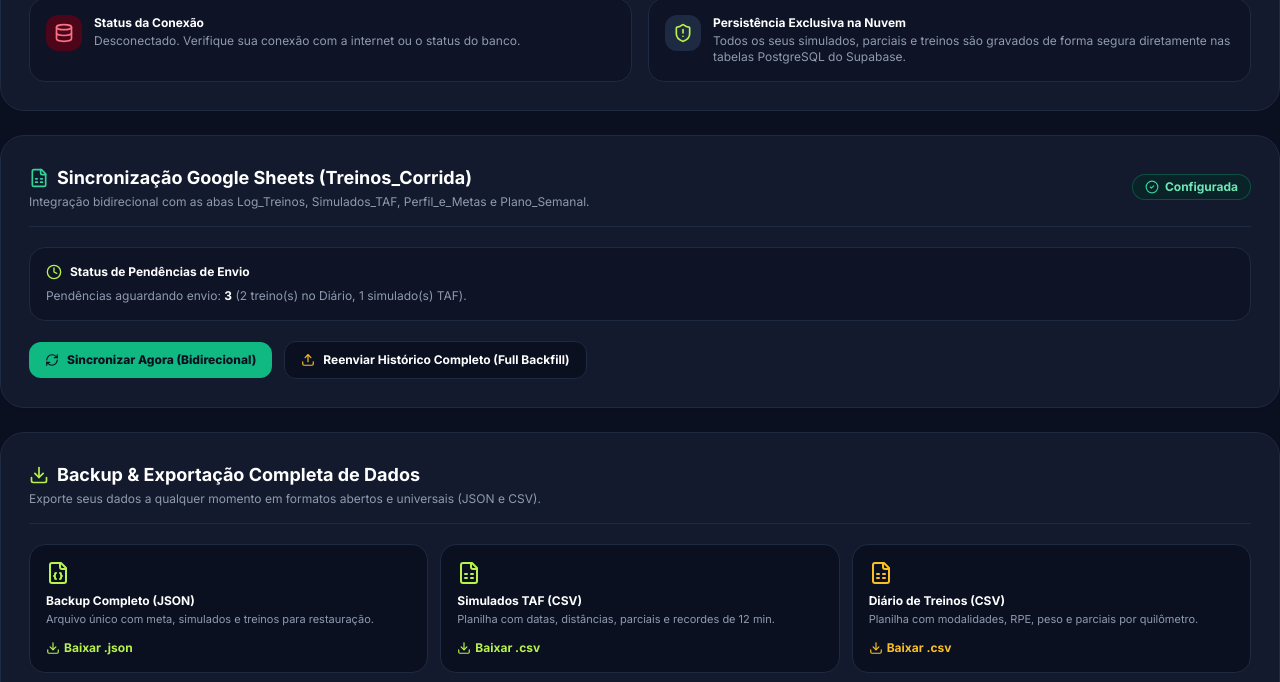
it: Fase 6 — Frontend & UX: Sincronização Google Sheets › 4. Painel Configurações Google Sheets em GoalAndBackupSettings › exibe status e pendências, executa sync bidirecional e full backfill com confirmação
Later steps or results of the test are not shown.
(page scrolled)
Expected: the element with test id "sheets-config-status" reads "Configurada", top-left (1165, 179), bottom-right (1238, 194)
Expected: the element with test id "sheets-pending-summary" shows "Pendências aguardando envio: 3 (2 treino(s) no Diário, 1 simulado(s) TAF)", top-left (46, 288), bottom-right (467, 303)
Click the button with test id "settings-sync-sheets-btn": (151, 360) top-left (29, 342), bottom-right (272, 378)
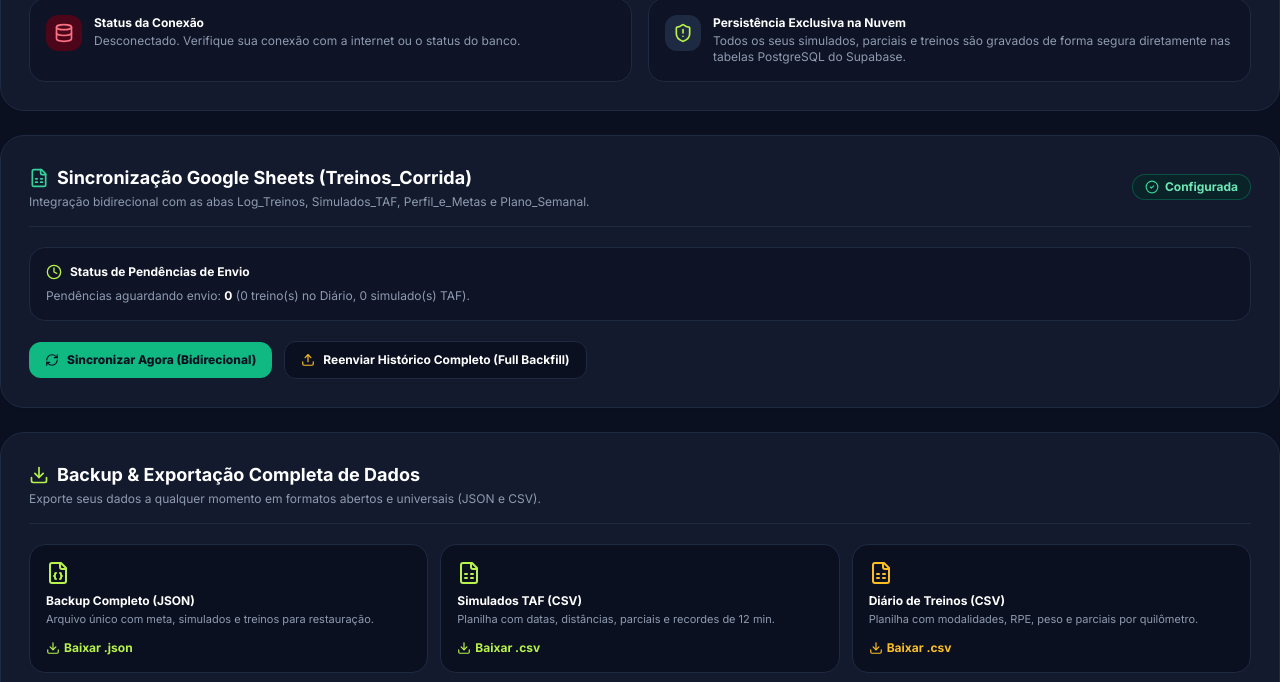
# Fluxo de Full Backfill exige confirmação
Click the button with test id "settings-backfill-sheets-btn": (436, 360) top-left (284, 341), bottom-right (587, 379)
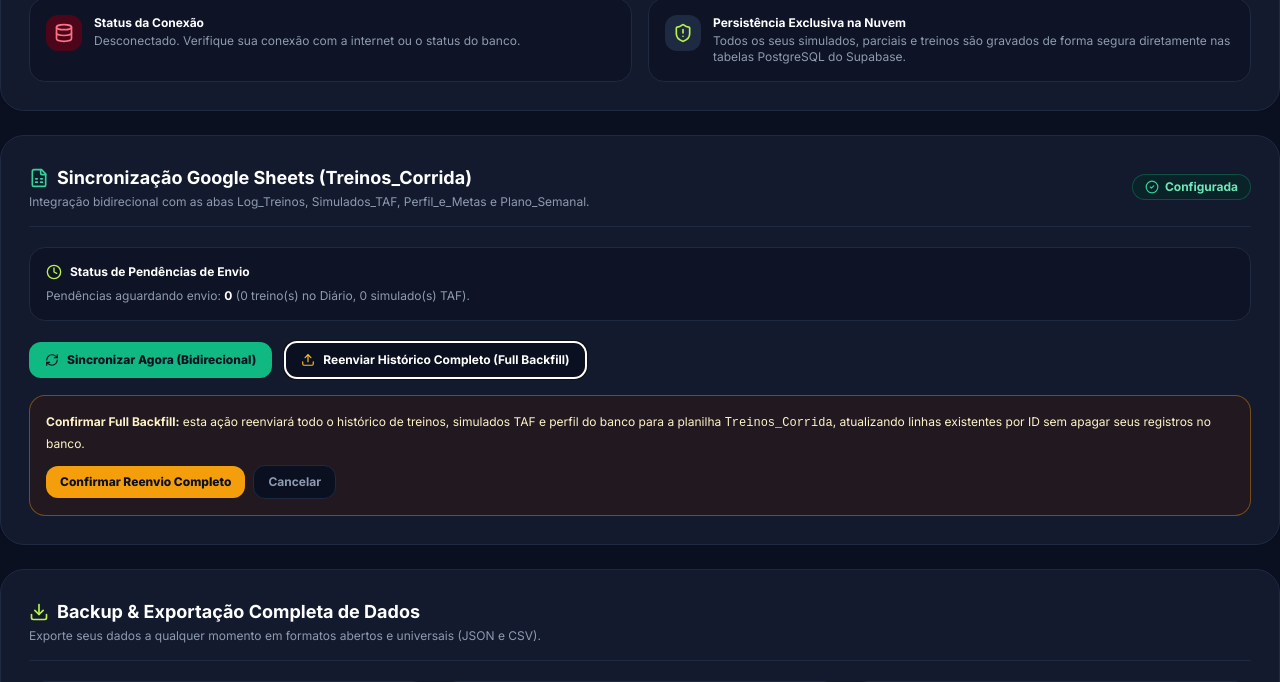
Now the element with test id "confirm-full-backfill-panel" is shown, box top-left (29, 395), bottom-right (1251, 516)
Click the button with test id "cancel-full-backfill-btn": (295, 482) top-left (254, 465), bottom-right (336, 499)
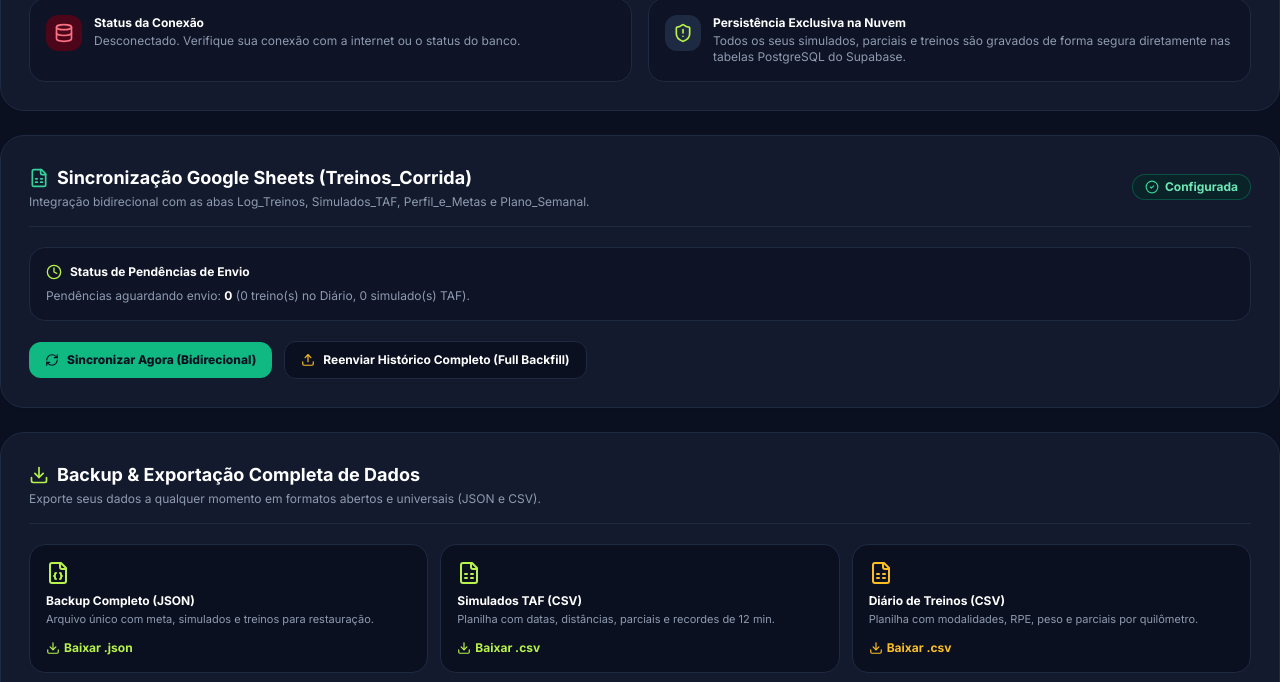
Now the element with test id "confirm-full-backfill-panel" is gone
